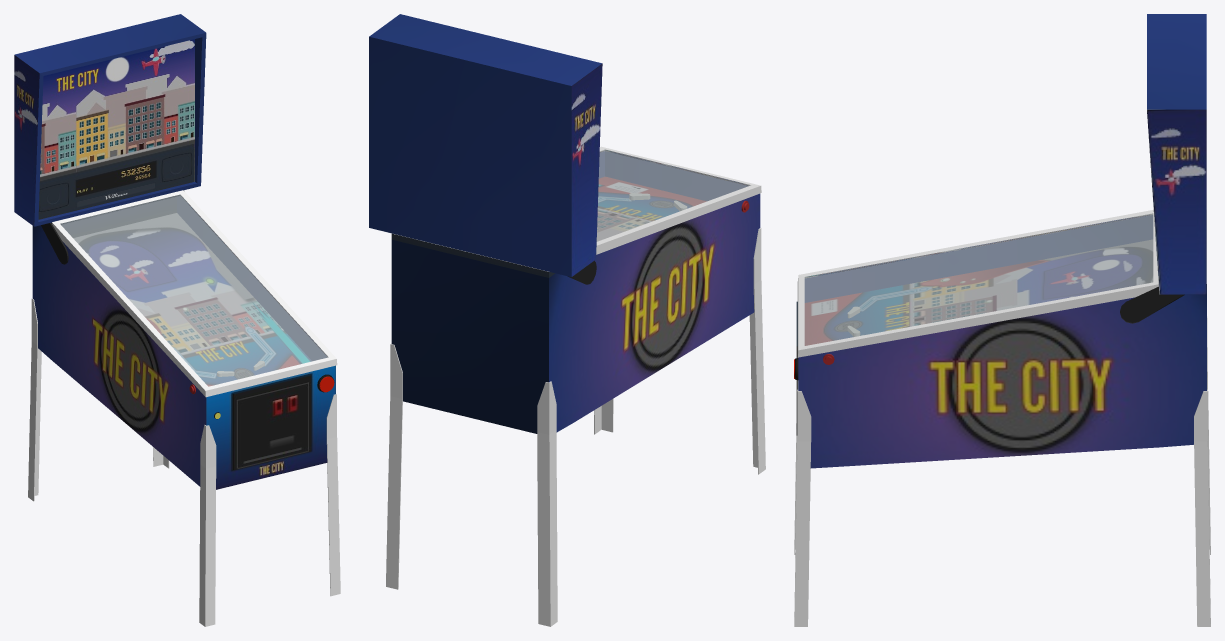
Rendered from sweethome3d-scopia-flipper.glb.
3 renders of one model, left to right at view 1: azimuth 30°, elevation 25°; view 2: azimuth 150°, elevation 25°; view 3: azimuth 270°, elevation 25°, orthographic. The views are drawn at different scales.
Visible parts, largest first — view 1: Cube, Cube.001, Cube.003, Cube.002, Cube.005, Cube.004, Circle; view 2: Cube, Cube.001, Cube.002, Cube.003, Cube.004; view 3: Cube, Cube.003, Cube.001, Cube.002, Cube.004, Circle.
Boxes of the visible parts, x1,y1,x2,y2 form: Cube: [32, 194, 335, 489]; Cube.001: [14, 14, 206, 226]; Cube.003: [61, 194, 328, 386]; Cube.002: [28, 298, 340, 626]; Cube.005: [233, 375, 311, 469]; Cube.004: [52, 190, 337, 397]; Circle: [41, 223, 68, 264]; Cube: [391, 149, 760, 433]; Cube.001: [369, 14, 602, 277]; Cube.002: [386, 227, 765, 626]; Cube.003: [596, 149, 750, 241]; Cube.004: [596, 146, 761, 254]; Cube: [798, 210, 1206, 468]; Cube.003: [804, 213, 1153, 345]; Cube.001: [1147, 14, 1206, 294]; Cube.002: [794, 316, 1210, 626]; Cube.004: [797, 210, 1158, 357]; Circle: [1120, 286, 1184, 323].
Bounding box in the file's own units: 72 × 185 × 133.
Materials: 9 (1 with a texture image).
